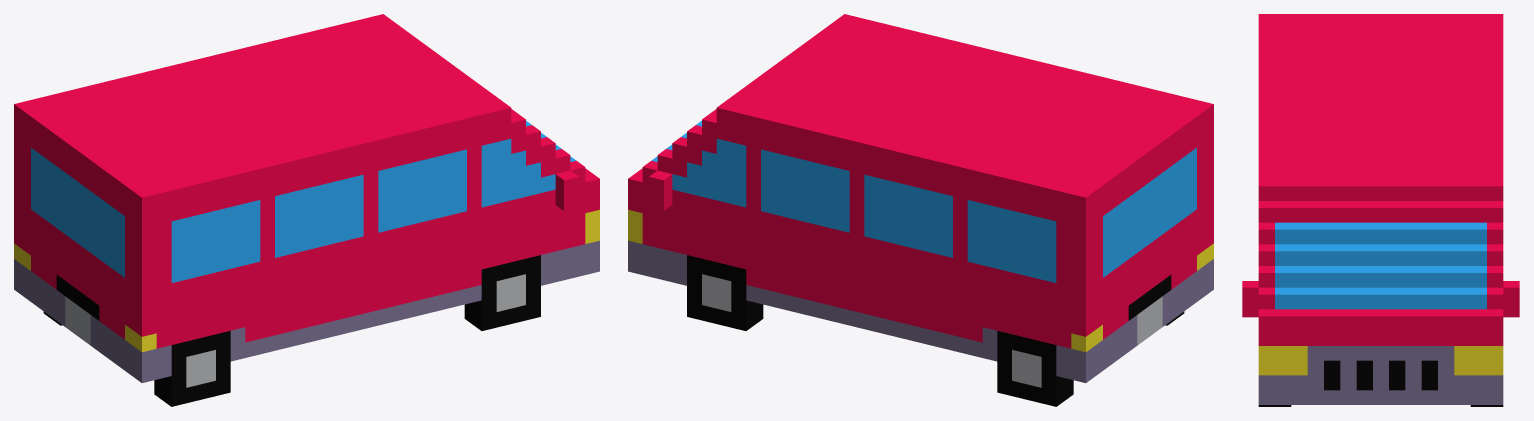
The model's file is van_a.obj.
3 views of the same model, side by side, from view 1: azimuth 30°, elevation 25°; view 2: azimuth 150°, elevation 25°; view 3: azimuth 270°, elevation 25° (orthographic). The views are drawn at different scales.
Size of the model in its own units: 3.1 by 1.4 by 1.7.
1 material, 1 textured.
